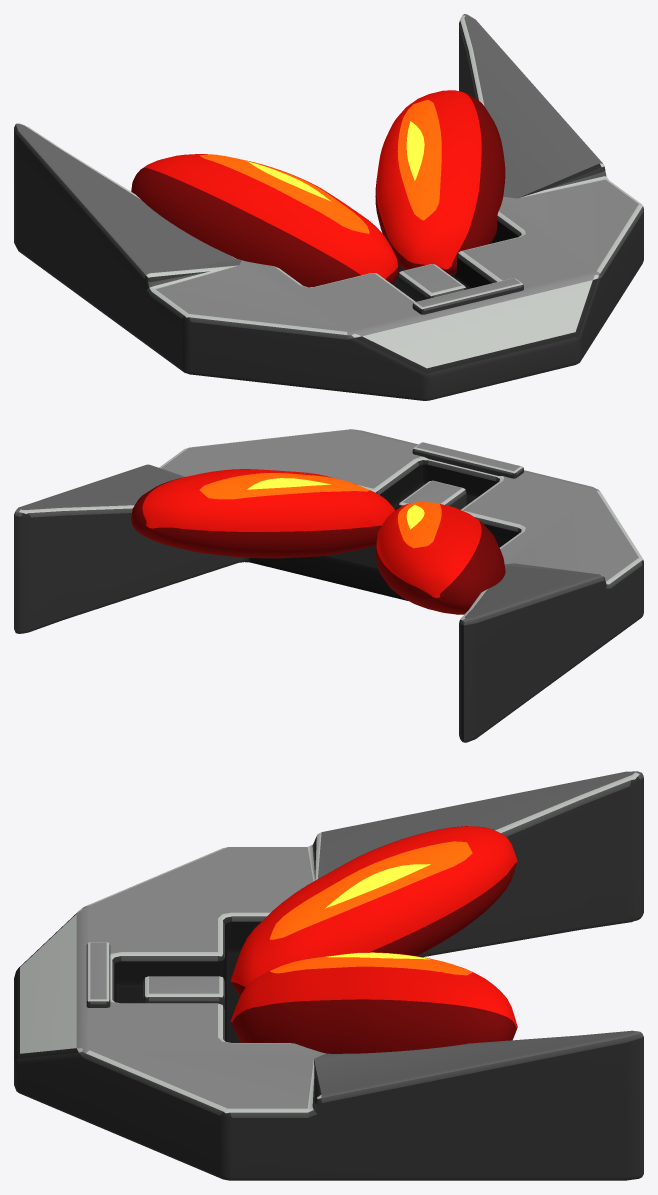
The model's file is fin_chevron.glb.
3 views of the same model, one above another, from view 1: azimuth 30°, elevation 25°; view 2: azimuth 150°, elevation 25°; view 3: azimuth 270°, elevation 25° (orthographic). The views are drawn at different scales.
Parts seen in each view (by area): view 1: fin_chevron; view 2: fin_chevron; view 3: fin_chevron.
Boxes of the visible parts, x1,y1,x2,y2 form: fin_chevron: (14,14,643,400); fin_chevron: (14,429,643,742); fin_chevron: (14,771,643,1180).
Size of the model in its own units: 24 by 6.18 by 23.88.
